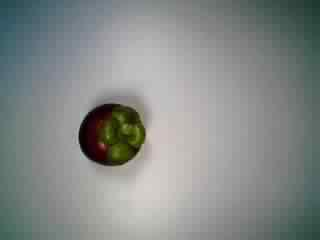mangosteen: (73, 97, 151, 169)
